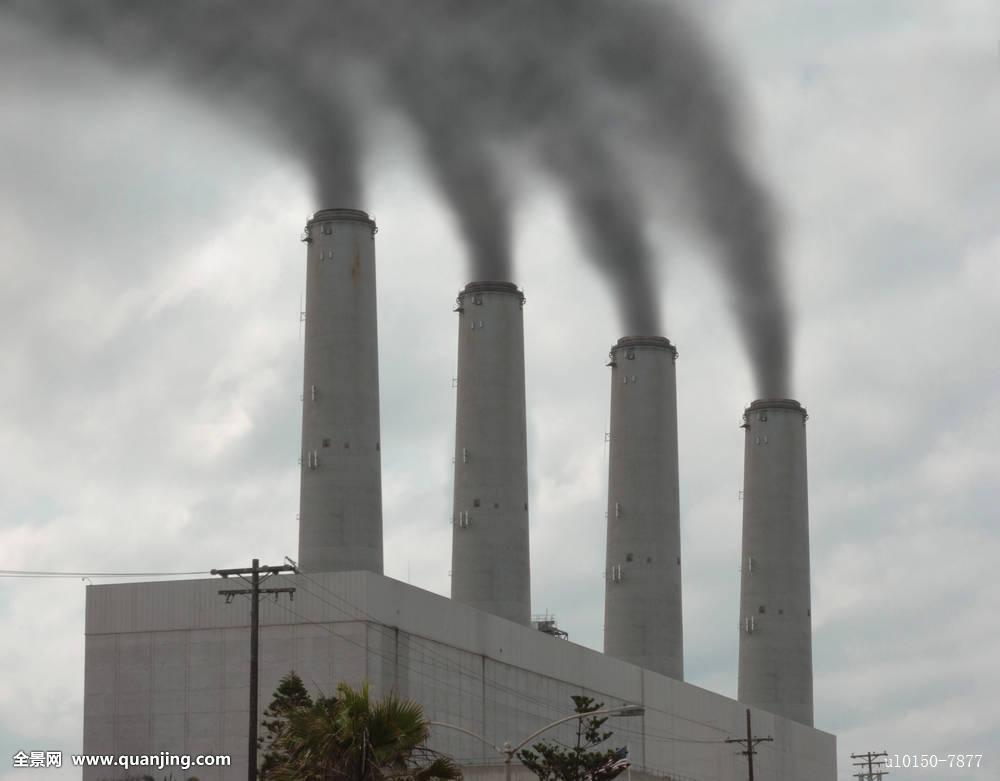dust: (687, 168, 841, 419), (233, 34, 392, 228), (560, 147, 684, 358), (428, 113, 546, 299)
